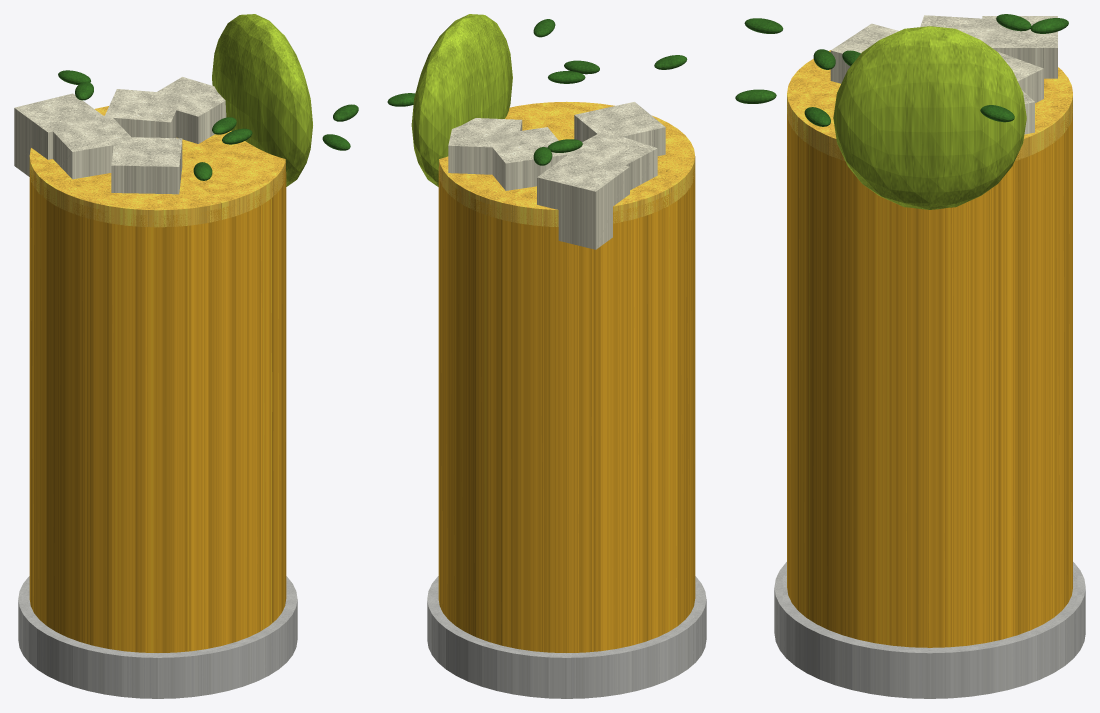
File: lulo-silvestre.glb
The picture shows the model from 3 angles, left to right: view 1: azimuth 30°, elevation 25°; view 2: azimuth 150°, elevation 25°; view 3: azimuth 270°, elevation 25°; orthographic projection. The views are drawn at different scales.
Parts seen in each view (by area): view 1: part1, part3, part0, part2, part4, part5; view 2: part1, part3, part0, part4, part2, part5; view 3: part1, part4, part0, part3, part2, part5.
Part boxes in pixels (box(x1,y1,x2,y2)): part1: box(29, 164, 286, 652); part3: box(14, 77, 226, 194); part0: box(18, 576, 297, 698); part2: box(29, 106, 286, 227); part4: box(212, 14, 312, 186); part5: box(58, 70, 358, 180); part1: box(438, 165, 695, 652); part3: box(448, 102, 665, 249); part0: box(427, 576, 706, 698); part4: box(411, 14, 512, 186); part2: box(438, 101, 695, 226); part5: box(387, 19, 687, 165); part1: box(787, 104, 1072, 647); part4: box(833, 26, 1026, 209); part0: box(774, 562, 1085, 698); part3: box(830, 15, 1057, 134); part2: box(787, 50, 1072, 160); part5: box(735, 14, 1068, 126).
Size of the model in its own units: 0.0837 by 0.174 by 0.0833.
Materials: 6 (6 with a texture image).
